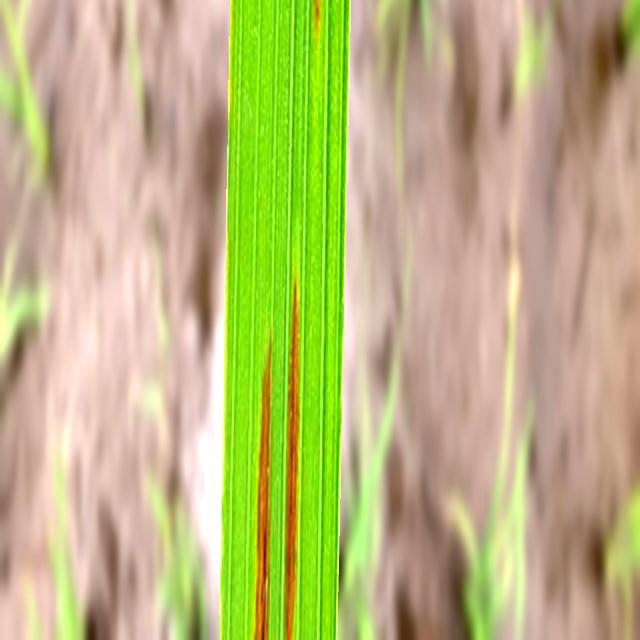NBS: (284, 277, 299, 638), (254, 341, 272, 638), (313, 0, 321, 34)
